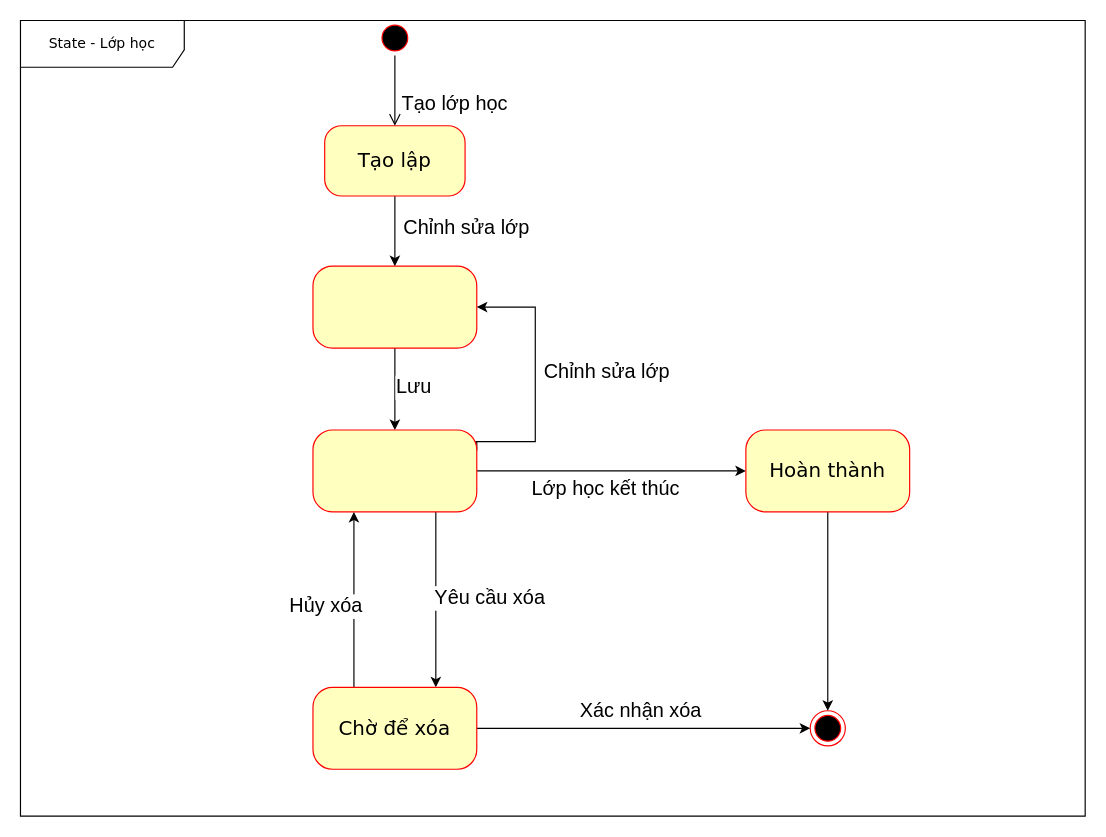
Some shapes in this 1106 by 837 pixel diagram are drawn without their labels. The shapes that lost their labels are listed below. From the top down, each one's centre as x and y in pixels, then its label:
pixel 394 306: Đang được chỉnh sửa
pixel 394 470: Lưu trữ
